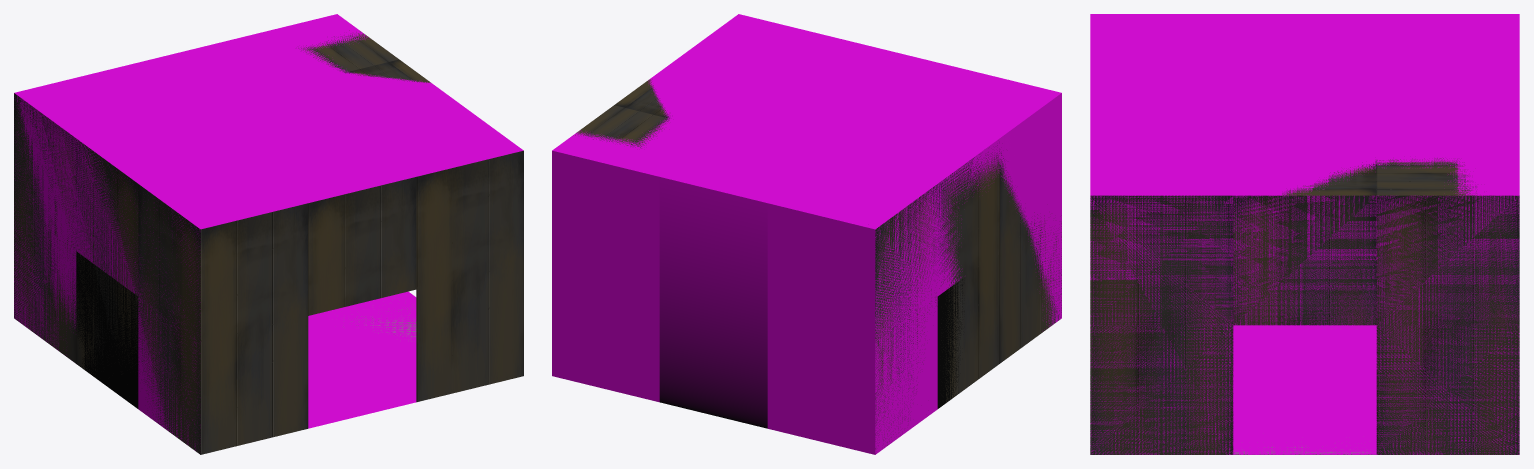
Rendered from mint_skele_room2.fbx.
The picture shows the model from 3 angles, left to right: view 1: azimuth 30°, elevation 25°; view 2: azimuth 150°, elevation 25°; view 3: azimuth 270°, elevation 25°; orthographic projection. The views are drawn at different scales.
Parts seen in each view (by area): view 1: wall (×2), floor; view 2: wall (×2); view 3: wall (×2), floor.
Part boxes in pixels (bbox=[...]): wall (×2): bbox=[14, 14, 523, 454]; floor: bbox=[308, 291, 416, 428]; wall (×2): bbox=[552, 14, 1061, 454]; wall (×2): bbox=[1090, 14, 1519, 454]; floor: bbox=[1233, 325, 1376, 454].
Bounding box in the file's own units: 45 × 30.01 × 45.
